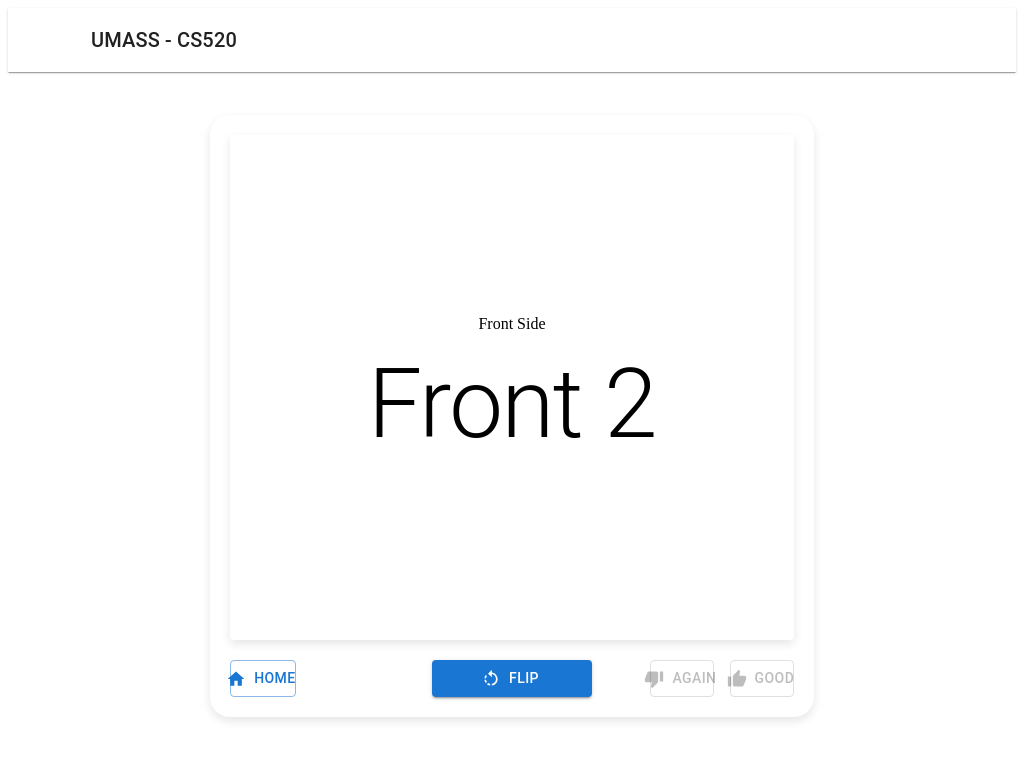
Practice Component › "Again" button modifies mastery and moves card
Click the button "Flip" at (512,679), box left=432, top=660, right=592, bottom=697
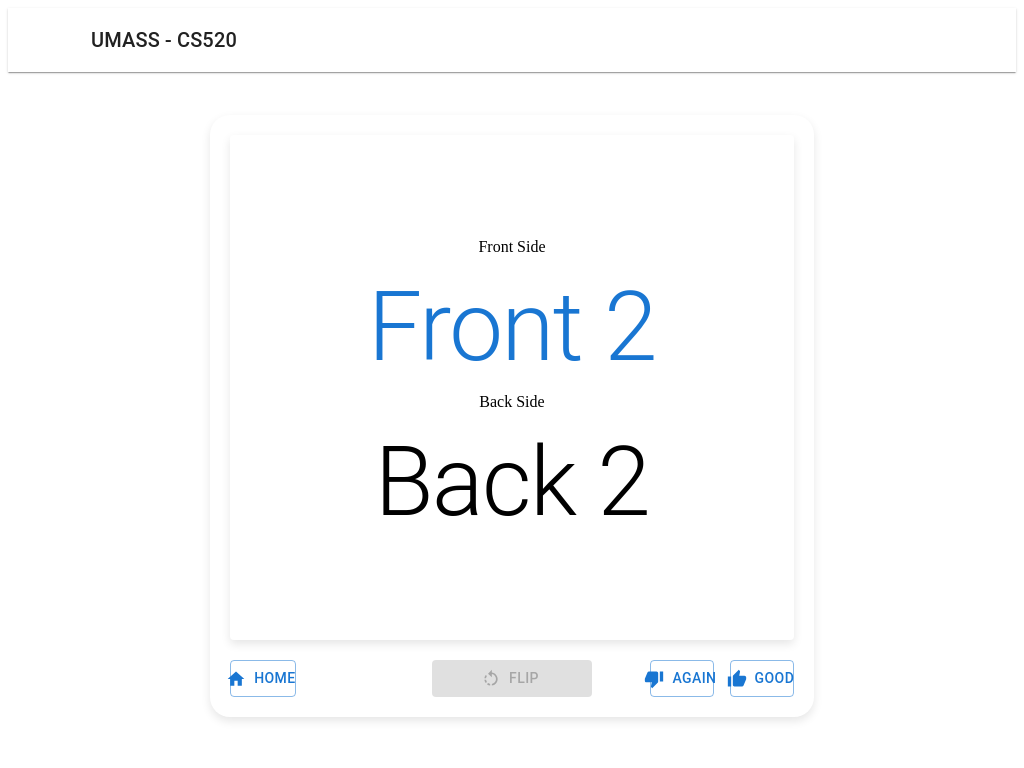
Click the button "Again" at (682,679), box left=650, top=660, right=714, bottom=697
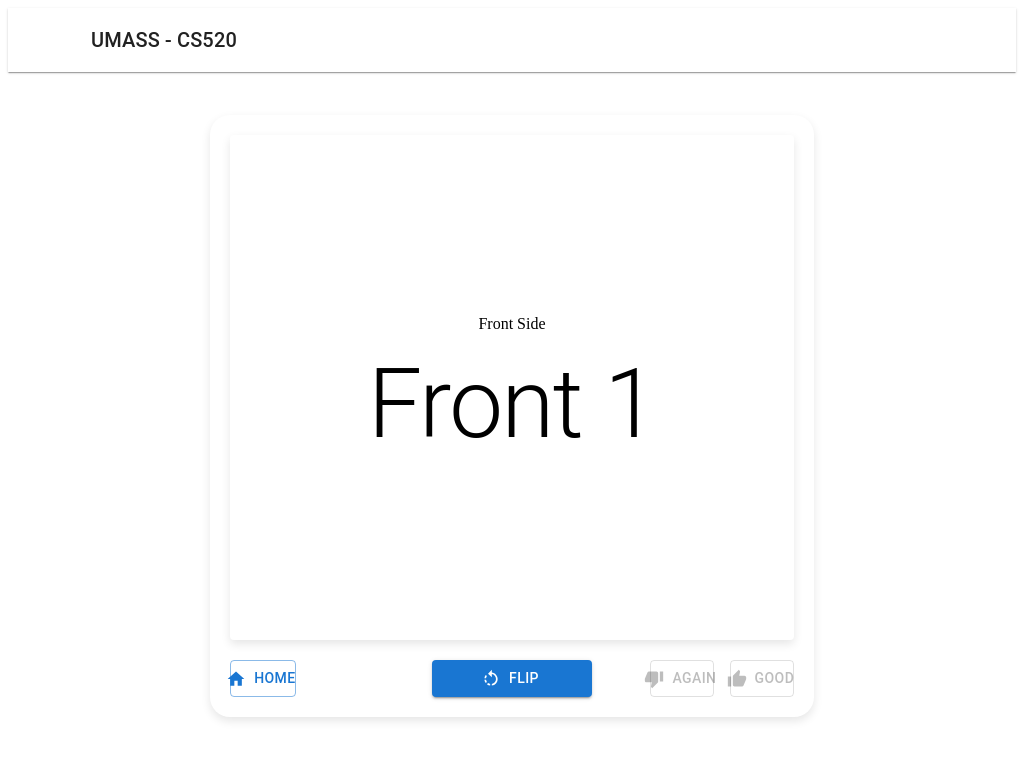
Expected: the text "Front Side" is shown, left=478, top=315, right=546, bottom=333
Expected: the text "Back Side" is gone
